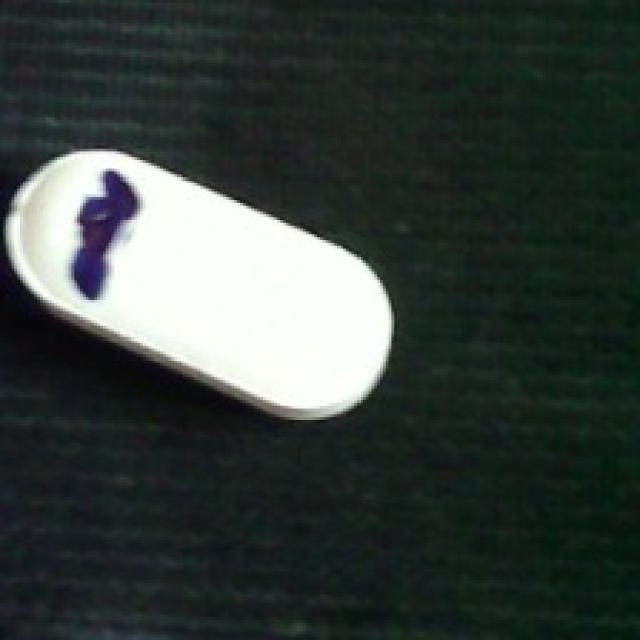defected: (0, 149, 400, 420)
